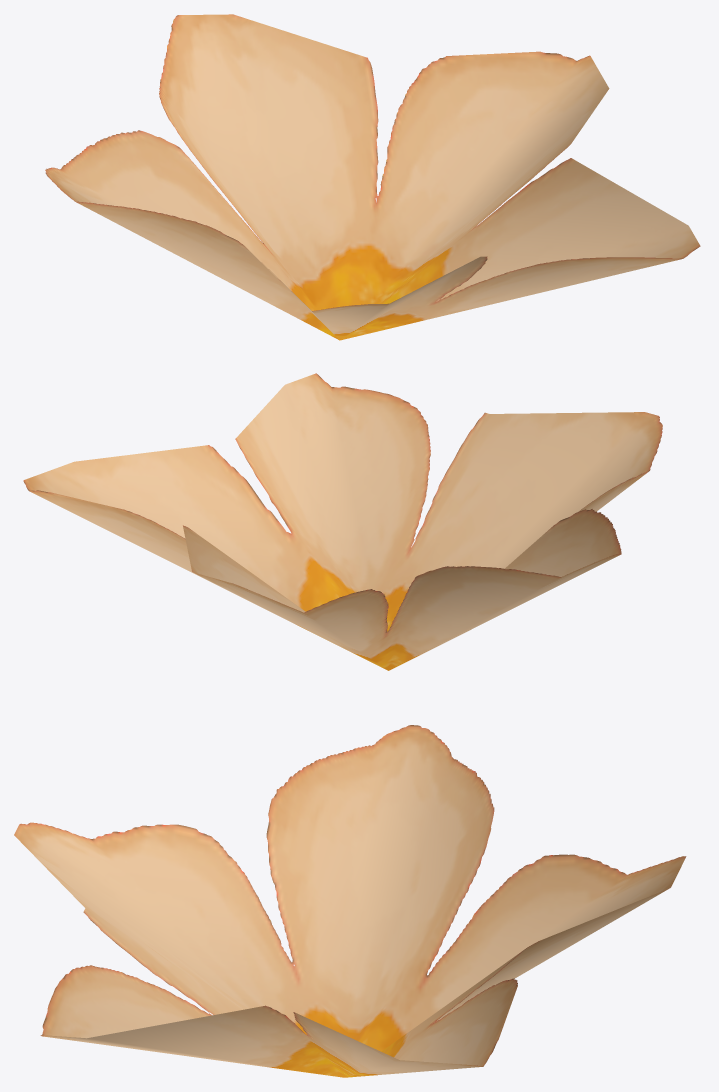
Rendered from petal_2.glb.
The picture shows the model from 3 angles, top to bottom: view 1: azimuth 30°, elevation 25°; view 2: azimuth 150°, elevation 25°; view 3: azimuth 270°, elevation 25°; orthographic projection. The views are drawn at different scales.
Visible parts, largest first — view 1: Petal_2; view 2: Petal_2; view 3: Petal_2.
Part boxes in pixels (x1,y1,x2,y2): Petal_2: [45, 14, 700, 340]; Petal_2: [23, 373, 662, 670]; Petal_2: [14, 725, 686, 1077].
Size of the model in its own units: 0.6732 by 0.2361 by 0.6311.
Materials: 1 (1 with a texture image).
